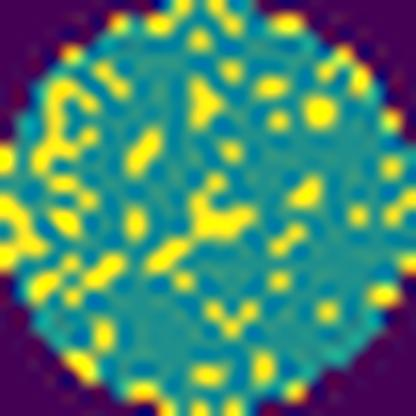Center: (150, 168, 260, 273)
